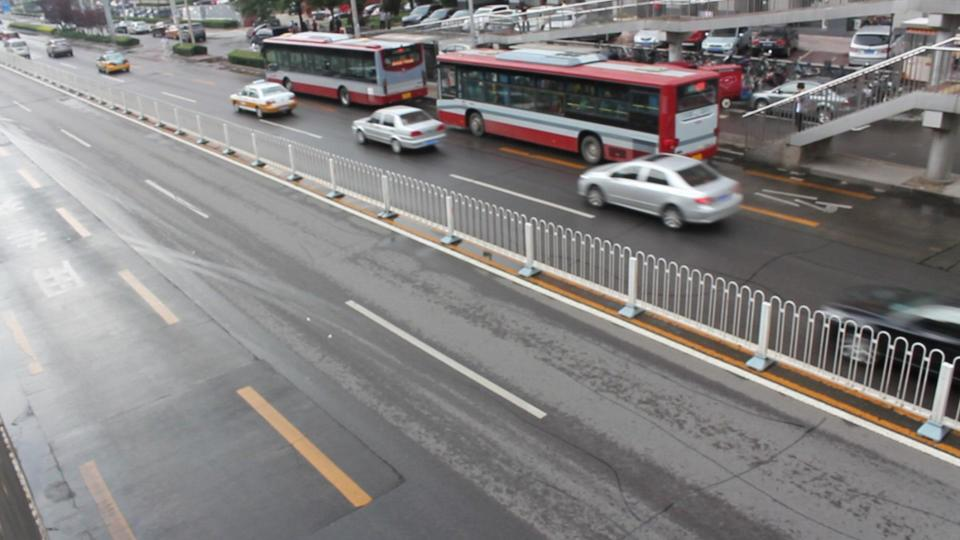bus: (435, 42, 723, 165), (262, 30, 439, 109)
car: (576, 152, 744, 230), (352, 105, 449, 153), (740, 80, 825, 111), (229, 82, 299, 117), (854, 18, 893, 66), (702, 20, 750, 59), (754, 32, 798, 64), (401, 5, 467, 26), (477, 4, 519, 36), (96, 50, 131, 75), (166, 23, 207, 43), (46, 39, 74, 58), (112, 22, 152, 35), (5, 41, 31, 59)
